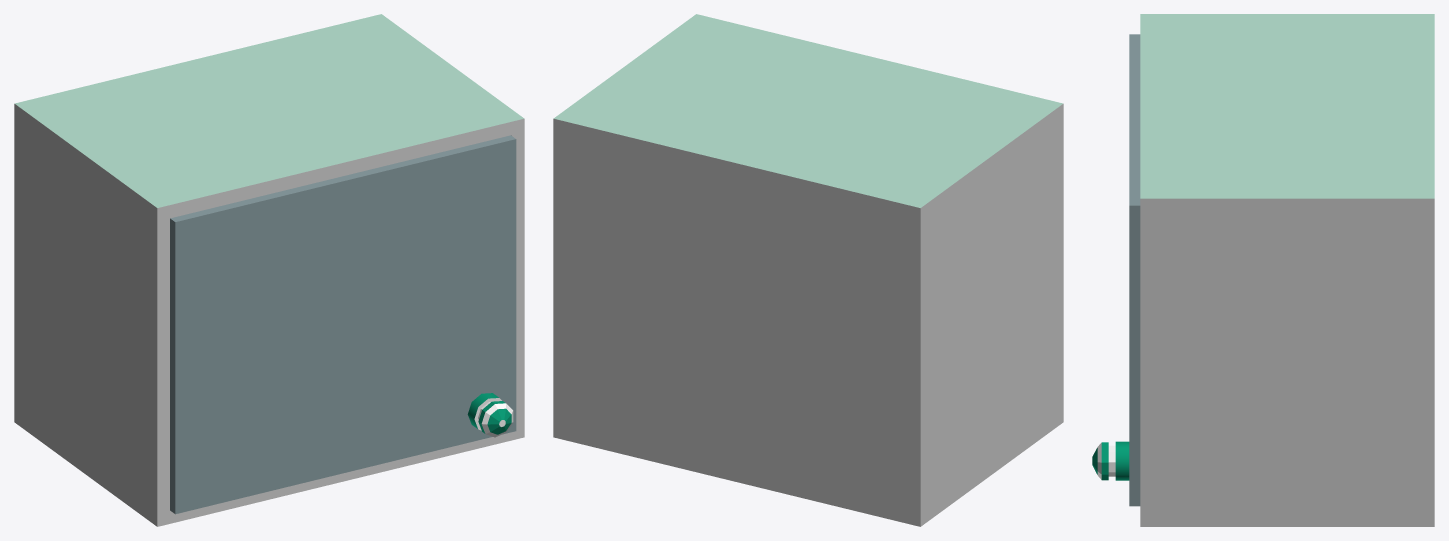
File: Cabinet_Green_Upper.fbx
The picture shows the model from 3 angles, left to right: view 1: azimuth 30°, elevation 25°; view 2: azimuth 150°, elevation 25°; view 3: azimuth 270°, elevation 25°; orthographic projection. The views are drawn at different scales.
Visible parts, largest first — view 1: Cabinet_Green_Upper.001, Cabinet_Green_Upper; view 2: Cabinet_Green_Upper.001; view 3: Cabinet_Green_Upper.001, Cabinet_Green_Upper.
Boxes of the visible parts, x1,y1,x2,y2 form: Cabinet_Green_Upper.001: (14, 14, 524, 526); Cabinet_Green_Upper: (170, 135, 516, 514); Cabinet_Green_Upper.001: (553, 14, 1063, 526); Cabinet_Green_Upper.001: (1140, 14, 1434, 526); Cabinet_Green_Upper: (1092, 34, 1140, 506).
Size of the model in its own units: 100 by 82.98 by 78.41.
